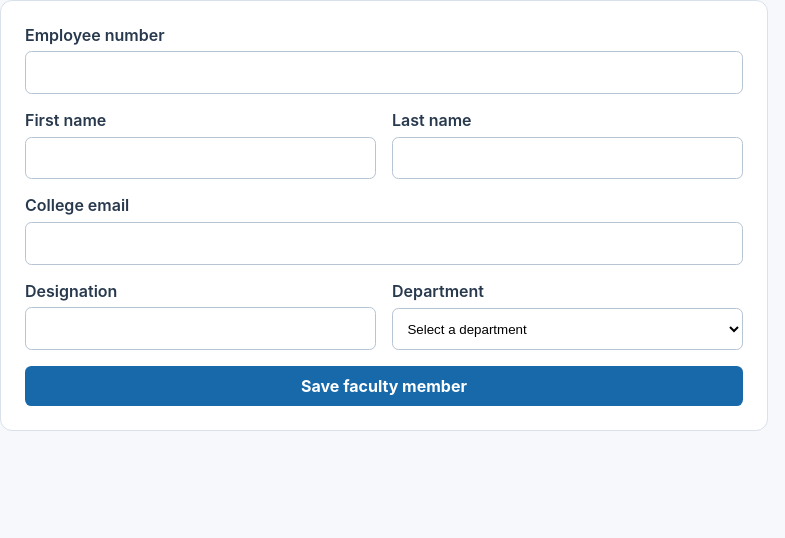
Test case: FacultyForm › shows client-side validation errors before submitting
The width and height of the screenshot is (785, 538).
Click the button "Save faculty member". click: (384, 386)
box: [25,366,743,406]
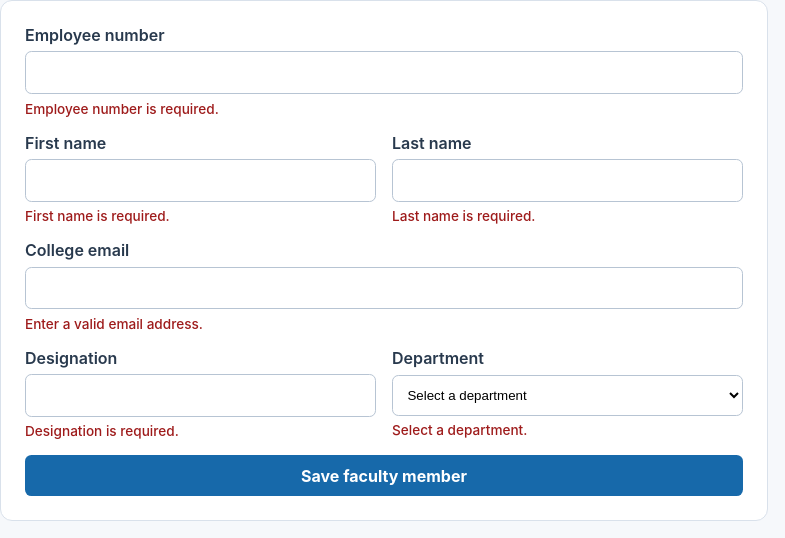
Result: the text "Employee number is required." is shown at [25,101,219,117]
Result: the text "Designation is required." is shown at [25,423,179,439]
